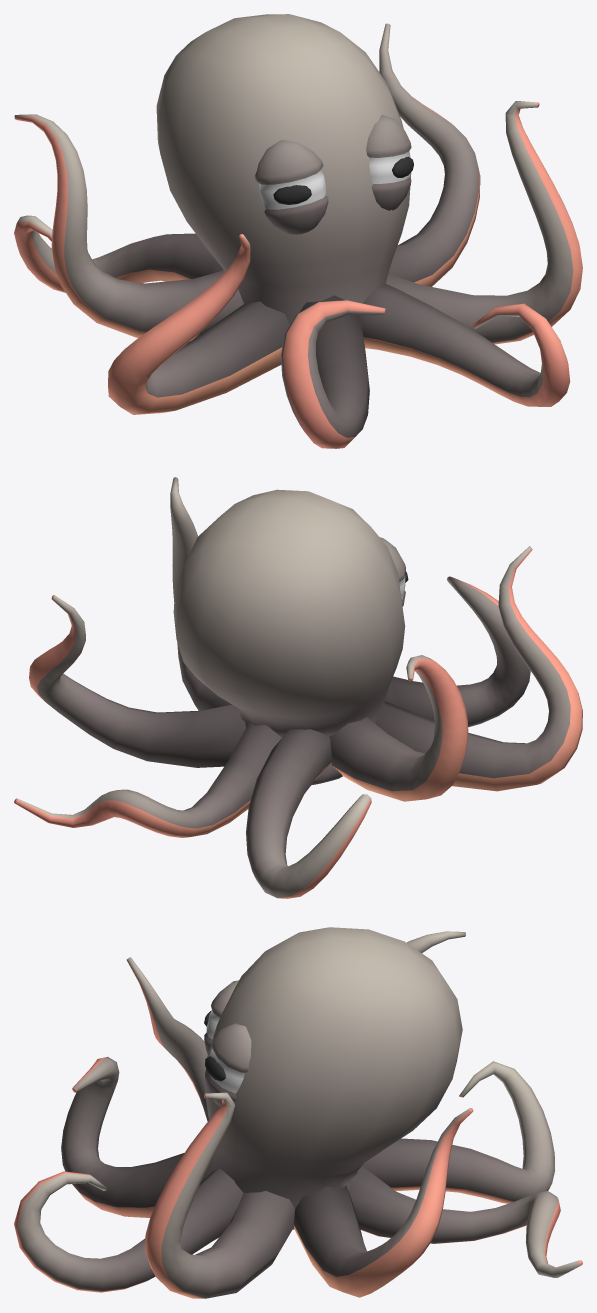
File: Octopus_02.fbx
3 views of the same model, one above another, from view 1: azimuth 30°, elevation 25°; view 2: azimuth 150°, elevation 25°; view 3: azimuth 270°, elevation 25° (orthographic). The views are drawn at different scales.
Parts seen in each view (by area): view 1: Octopus_02; view 2: Octopus_02; view 3: Octopus_02.
Part boxes in pixels (x1=…): Octopus_02: x1=14, y1=14, x2=582, y2=448; Octopus_02: x1=14, y1=477, x2=582, y2=898; Octopus_02: x1=14, y1=927, x2=582, y2=1298.
Bounding box in the file's own units: 255 × 166 × 281.
